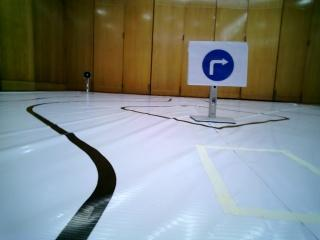right: (188, 40, 247, 82)
